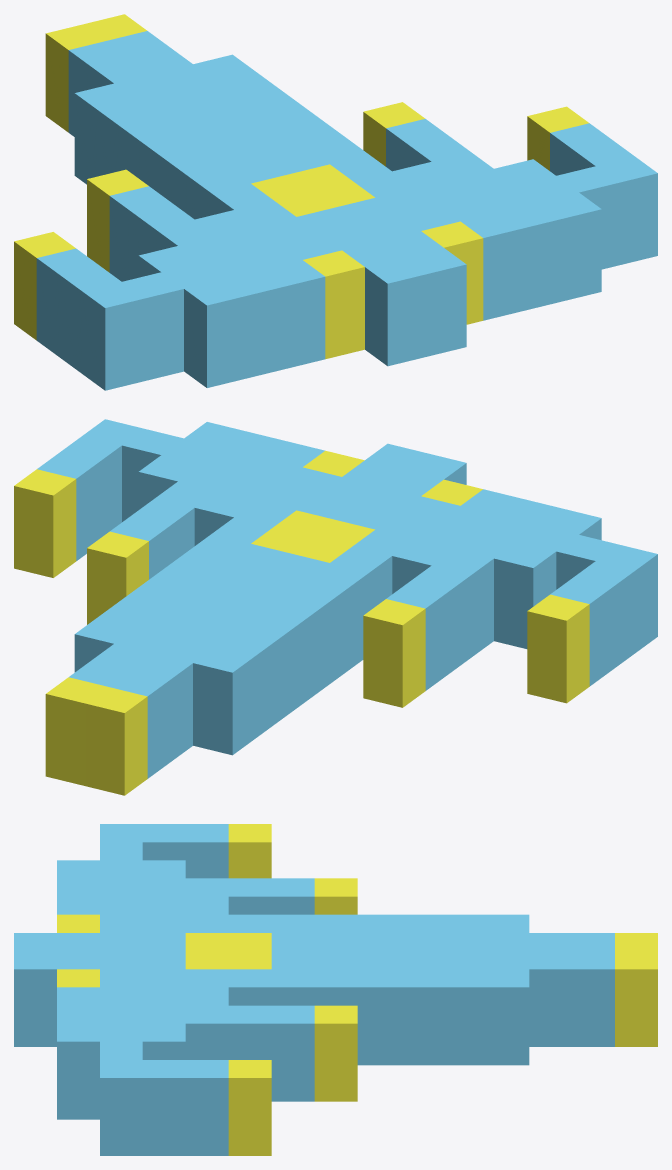
File: Modelos_1_space_invaders.fbx
The picture shows the model from 3 angles, top to bottom: view 1: azimuth 30°, elevation 25°; view 2: azimuth 150°, elevation 25°; view 3: azimuth 270°, elevation 25°; orthographic projection. The views are drawn at different scales.
Parts seen in each view (by area): view 1: Plane.004; view 2: Plane.004; view 3: Plane.004.
Part boxes in pixels (x1=…): Plane.004: x1=14, y1=14, x2=657, y2=390; Plane.004: x1=14, y1=419, x2=657, y2=795; Plane.004: x1=14, y1=824, x2=657, y2=1155.
Bounding box in the file's own units: 700 × 100 × 750.
